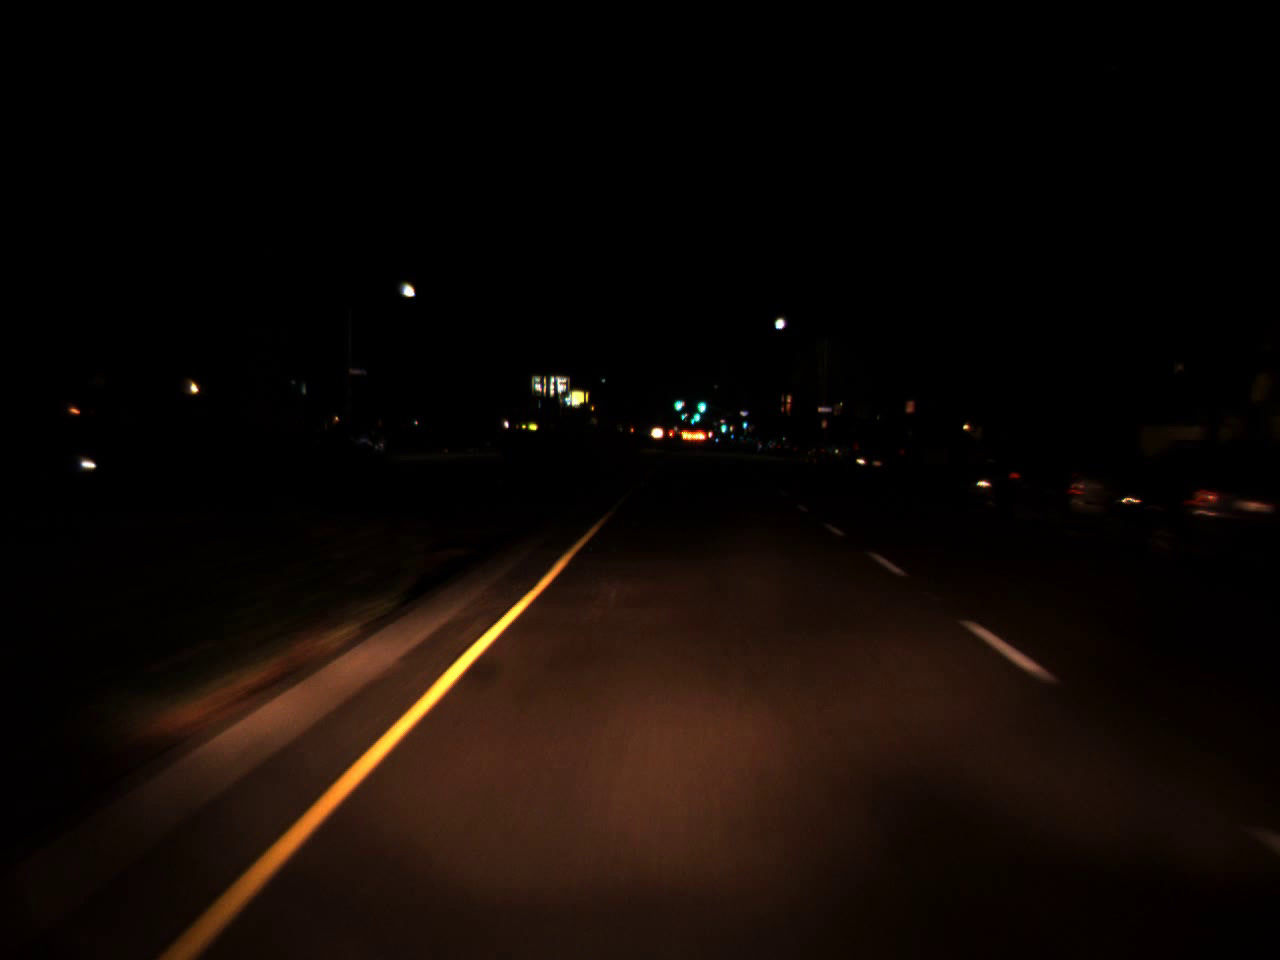go: (694, 389, 708, 416), (672, 391, 684, 412), (691, 403, 701, 424), (720, 419, 727, 432), (679, 410, 686, 422)
